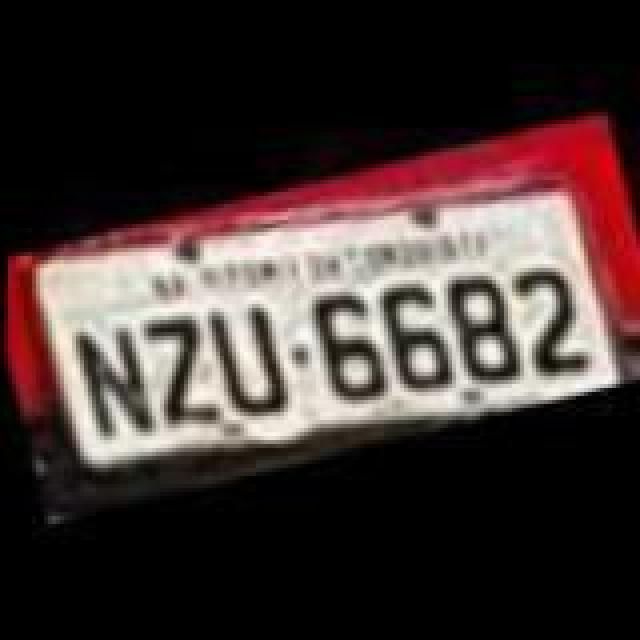2: (500, 252, 596, 384)
6: (298, 276, 398, 412), (362, 268, 462, 404)
8: (428, 262, 524, 394)
N: (58, 312, 154, 444)
U: (190, 288, 294, 424)
Z: (126, 296, 222, 432)
